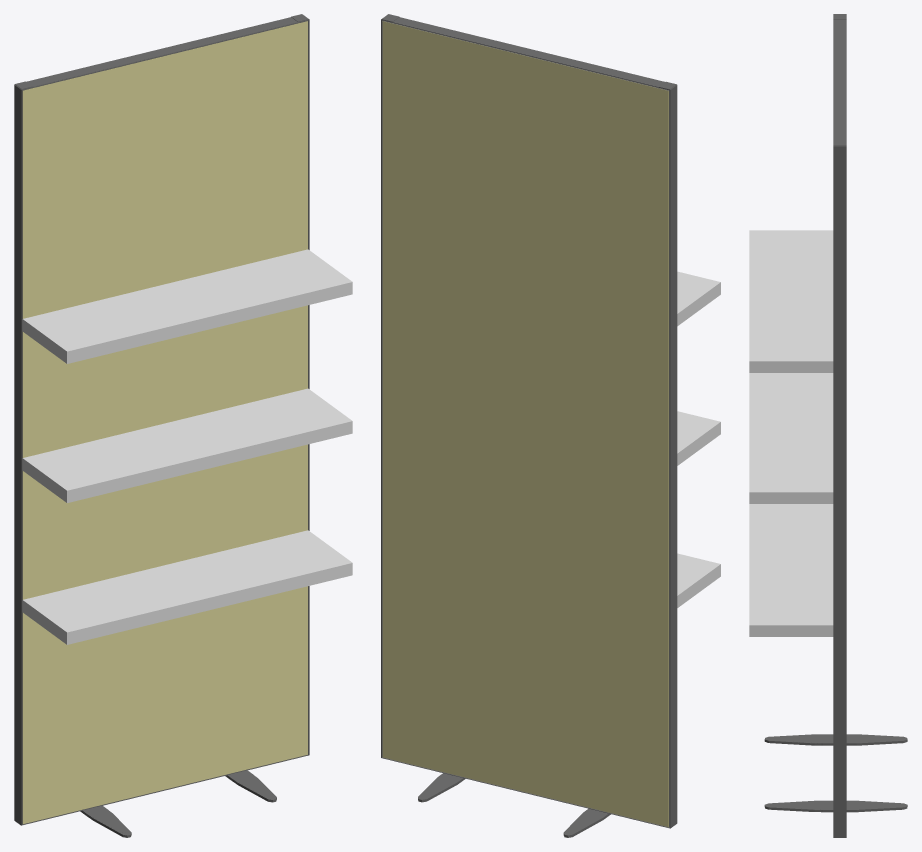
The model's file is 3 Shelves.glb.
3 views of the same model, side by side, from view 1: azimuth 30°, elevation 25°; view 2: azimuth 150°, elevation 25°; view 3: azimuth 270°, elevation 25° (orthographic). The views are drawn at different scales.
Visible parts, largest first — view 1: Standard 38.030, 3 Shelves, toggle_feet_center.019; view 2: toggle_back_panel.015, Standard 38.030, 3 Shelves, toggle_feet_center.019; view 3: 3 Shelves, Standard 38.030, toggle_feet_center.019, toggle_feet_edge.016.
Boxes of the visible parts, bbox=[...] form: Standard 38.030: bbox=[14, 14, 309, 825]; 3 Shelves: bbox=[22, 249, 352, 644]; toggle_feet_center.019: bbox=[80, 770, 272, 832]; toggle_back_panel.015: bbox=[382, 21, 668, 826]; Standard 38.030: bbox=[381, 14, 677, 828]; 3 Shelves: bbox=[677, 271, 720, 607]; toggle_feet_center.019: bbox=[418, 773, 610, 837]; 3 Shelves: bbox=[749, 230, 833, 636]; Standard 38.030: bbox=[833, 14, 846, 837]; toggle_feet_center.019: bbox=[772, 734, 907, 812]; toggle_feet_edge.016: bbox=[764, 734, 821, 811].
Bounding box in the file's own units: 0.969 × 2.37 × 0.4893.
